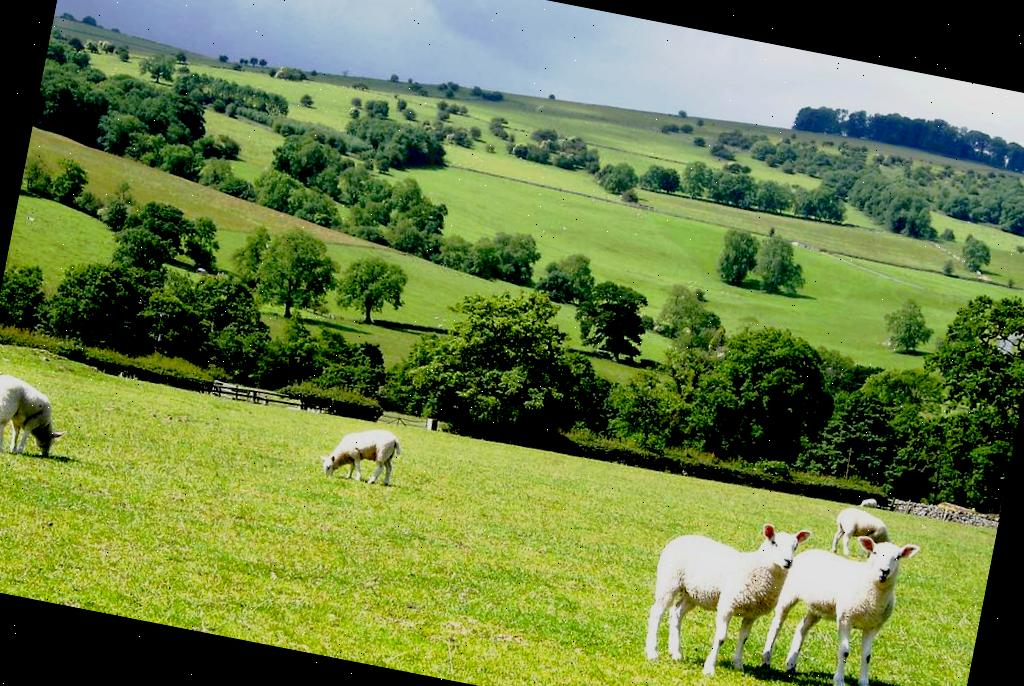Sheep: (639, 504, 808, 686), (760, 522, 916, 686), (0, 373, 76, 462), (314, 424, 404, 488), (834, 504, 894, 558), (862, 498, 879, 510)
